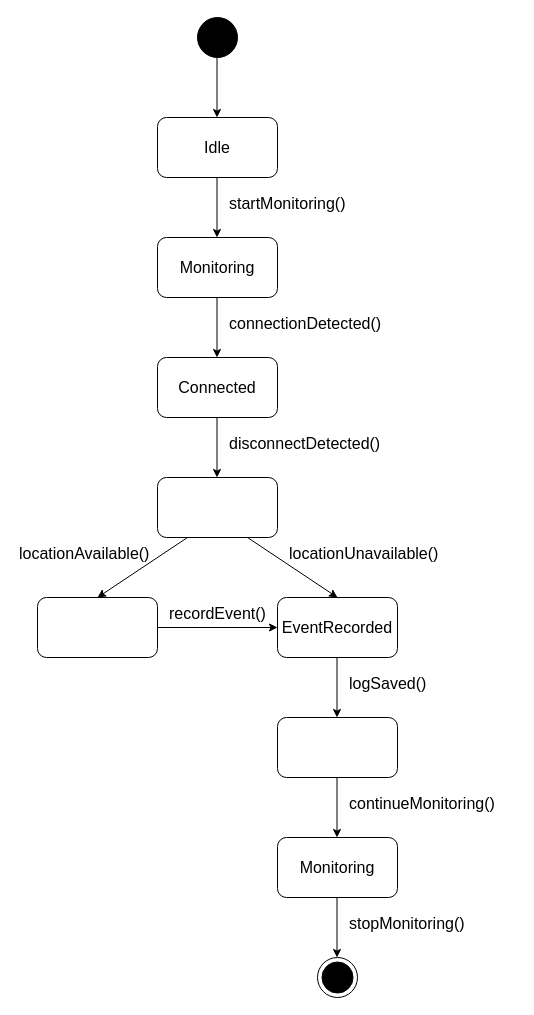
The diagram is 534 pixels wide and 1015 high, and some of its shapes have lost their labels. Here are the shapes that lost their labels. From the top down, the box of each, then its label:
(156, 476, 278, 538): Disconnected
(36, 596, 158, 658): LocationSaved
(276, 716, 398, 778): StatusUpdated
